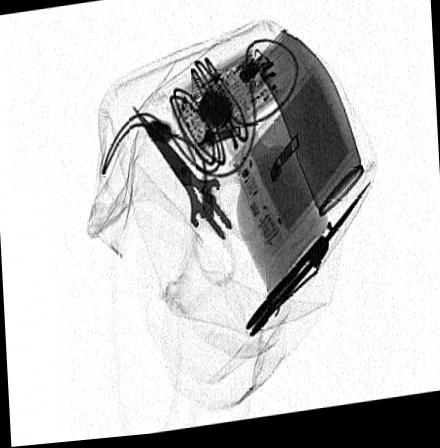Knife: (242, 181, 375, 342)
Powerbank: (225, 63, 362, 268)
Scissors: (126, 108, 260, 290)
